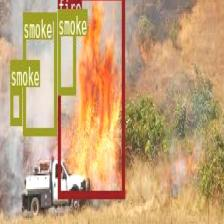fire: (57, 0, 123, 197)
smoke: (22, 11, 56, 133), (57, 9, 76, 94), (10, 87, 21, 124)
